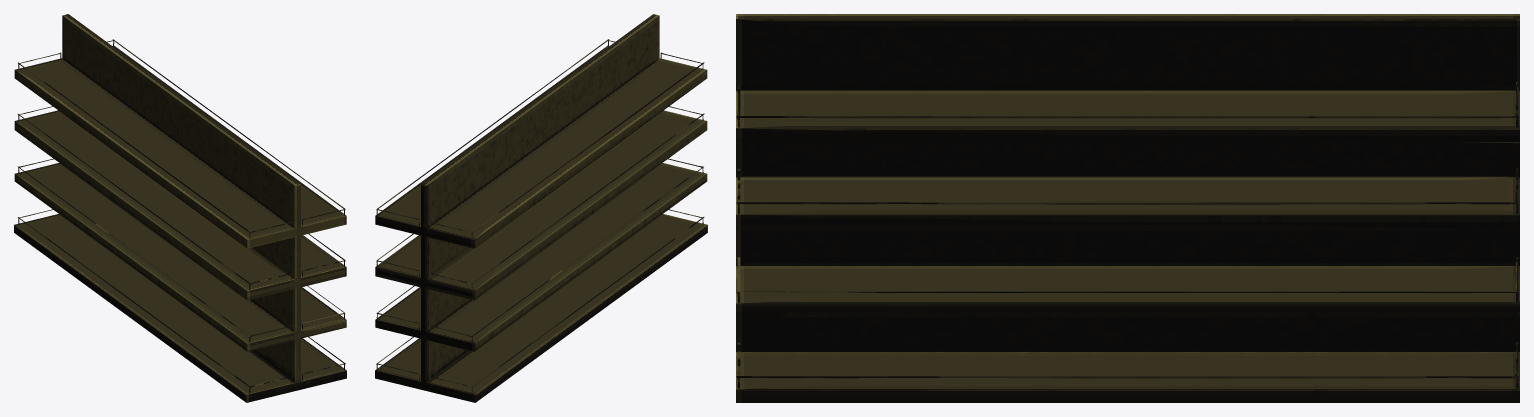
File: goods_shelf.glb
3 views of the same model, side by side, from view 1: azimuth 30°, elevation 25°; view 2: azimuth 150°, elevation 25°; view 3: azimuth 270°, elevation 25° (orthographic). The views are drawn at different scales.
Parts seen in each view (by area): view 1: mesh; view 2: mesh; view 3: mesh.
Boxes of the visible parts, x1,y1,x2,y2 form: mesh: (14, 14, 346, 402); mesh: (375, 14, 707, 402); mesh: (736, 14, 1519, 402).
Bounding box in the file's own units: 0.8488 × 1.66 × 3.41.
1 material, 1 textured.
